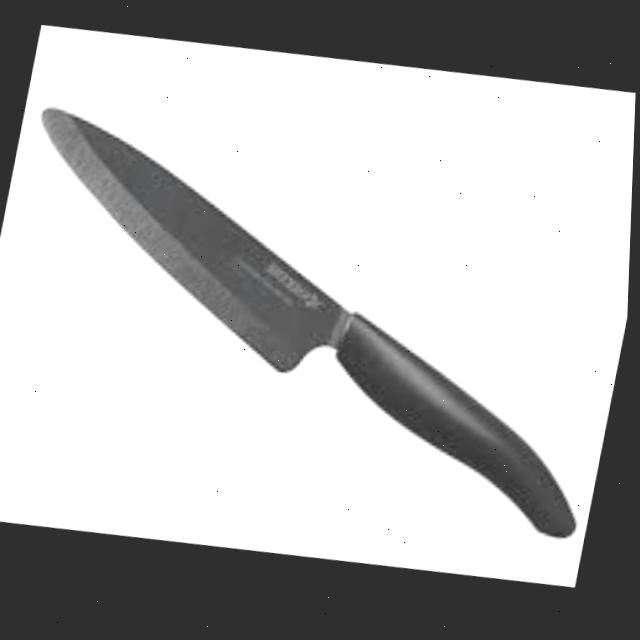Knife: (0, 82, 637, 564)
